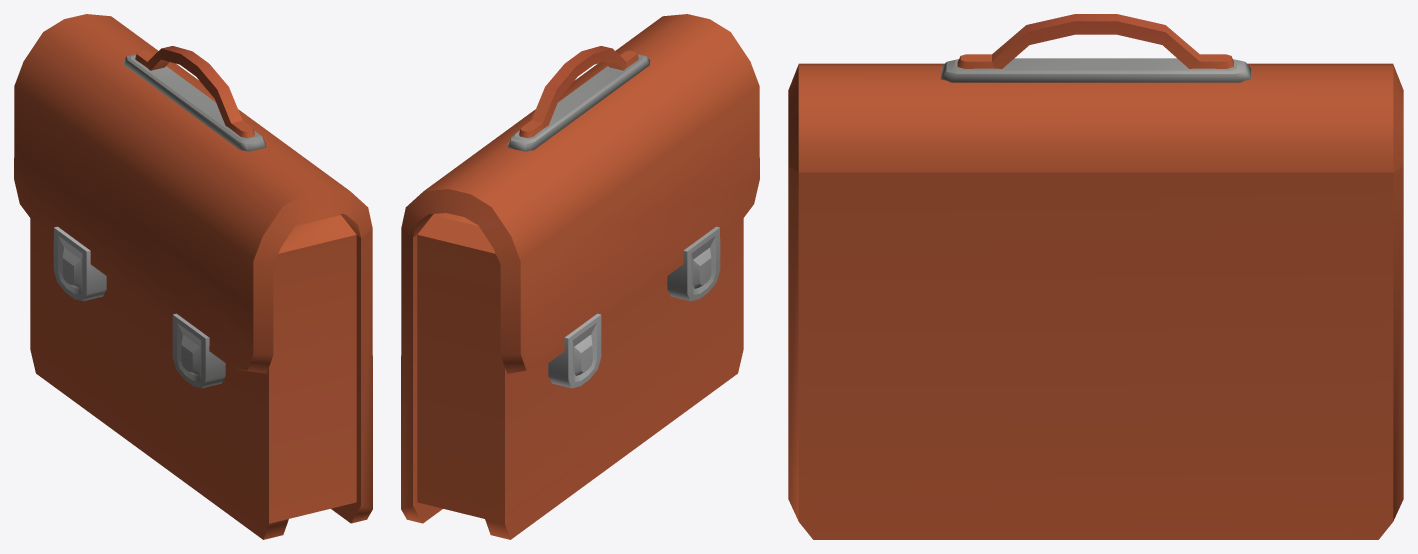
The model's file is Suitcase_1_1_F.fbx.
3 views of the same model, side by side, from view 1: azimuth 30°, elevation 25°; view 2: azimuth 150°, elevation 25°; view 3: azimuth 270°, elevation 25° (orthographic). The views are drawn at different scales.
Parts seen in each view (by area): view 1: Suitcase_1_1_F; view 2: Suitcase_1_1_F; view 3: Suitcase_1_1_F.
Part boxes in pixels (<box>): Suitcase_1_1_F: <box>14,14,372,539</box>; Suitcase_1_1_F: <box>401,14,759,539</box>; Suitcase_1_1_F: <box>788,14,1403,539</box>.
Size of the model in its own units: 16.04 by 47.79 by 54.73.
